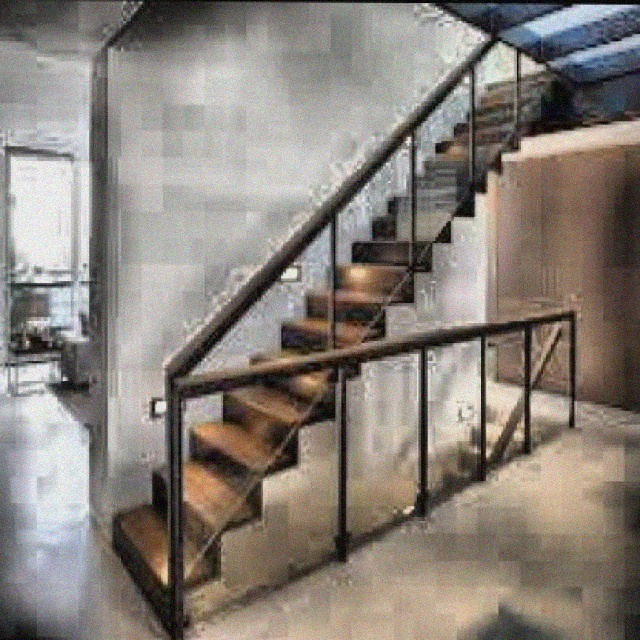stair: (103, 63, 572, 626)
